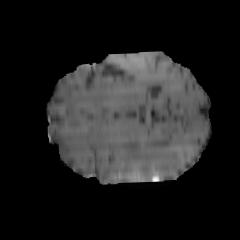glioma: (61, 129, 184, 186)
